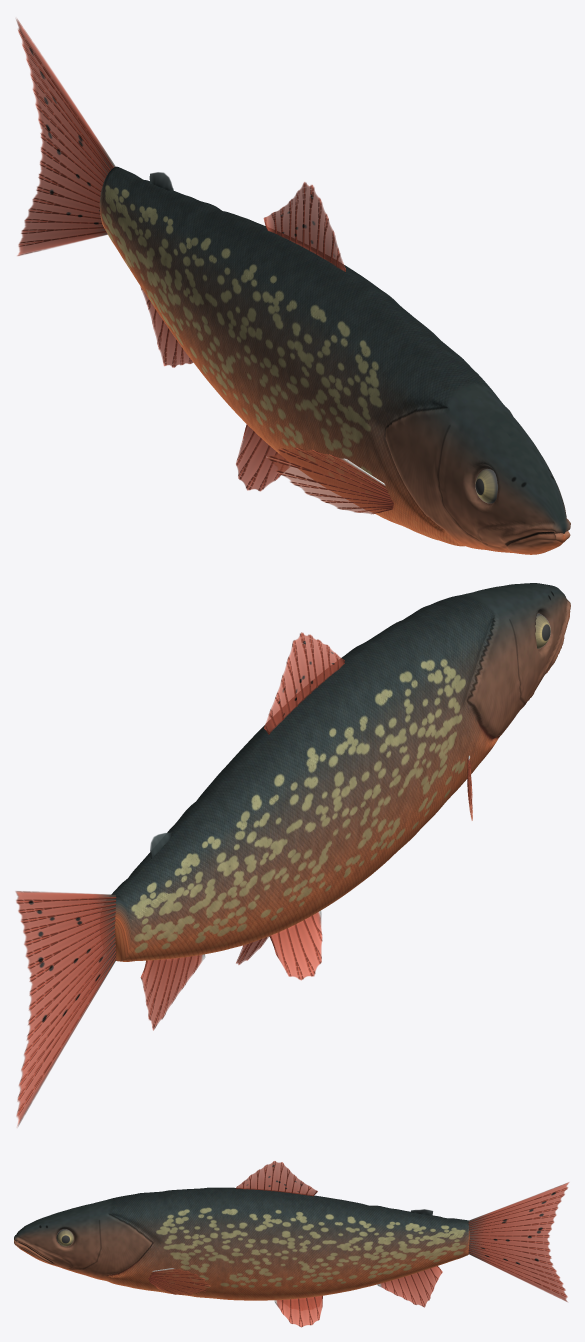
File: palia.glb
3 views of the same model, one above another, from view 1: azimuth 30°, elevation 25°; view 2: azimuth 150°, elevation 25°; view 3: azimuth 270°, elevation 25° (orthographic). The views are drawn at different scales.
Visible parts, largest first — view 1: Body, FinCaudal, FinPectoral, FinDorsal1, FinPelvic, FinAnal; view 2: Body, FinCaudal, FinDorsal1, FinPelvic, FinAnal; view 3: Body, FinCaudal, FinDorsal1, FinAnal, FinPectoral, FinPelvic, EyeRight, CorneaRight.
Boxes of the visible parts, left/top/right/bottom form: Body: left=99, top=166, right=570, bottom=554; FinCaudal: left=16, top=19, right=115, bottom=255; FinPectoral: left=267, top=447, right=393, bottom=514; FinDorsal1: left=263, top=182, right=345, bottom=271; FinPelvic: left=236, top=424, right=290, bottom=491; FinAnal: left=140, top=287, right=193, bottom=367; Body: left=111, top=583, right=570, bottom=961; FinCaudal: left=15, top=891, right=116, bottom=1126; FinDorsal1: left=264, top=632, right=344, bottom=734; FinPelvic: left=236, top=910, right=322, bottom=980; FinAnal: left=140, top=954, right=205, bottom=1030; Body: left=14, top=1187, right=469, bottom=1300; FinCaudal: left=468, top=1182, right=569, bottom=1301; FinDorsal1: left=236, top=1161, right=317, bottom=1196; FinAnal: left=377, top=1266, right=442, bottom=1307; FinPectoral: left=148, top=1268, right=210, bottom=1294; FinPelvic: left=274, top=1295, right=322, bottom=1327; EyeRight: left=56, top=1229, right=73, bottom=1246; CorneaRight: left=57, top=1229, right=73, bottom=1246.
Size of the model in its own units: 0.2183 by 0.3192 by 1.
9 materials, 8 textured.
